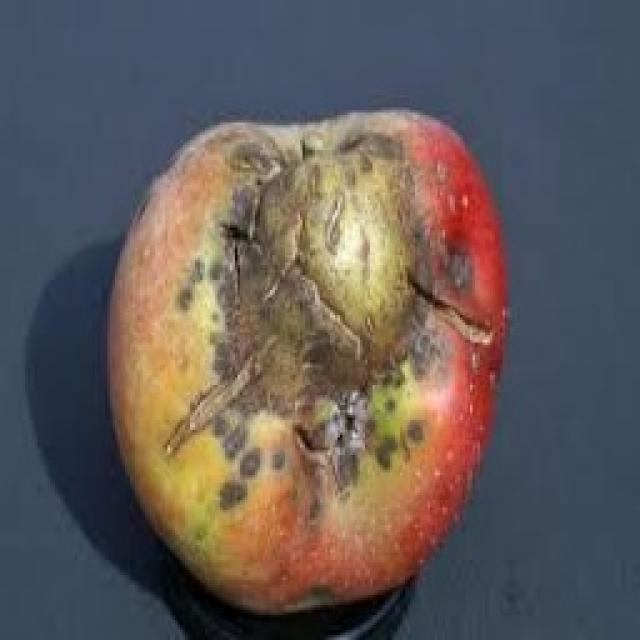defective: (102, 105, 510, 620)
